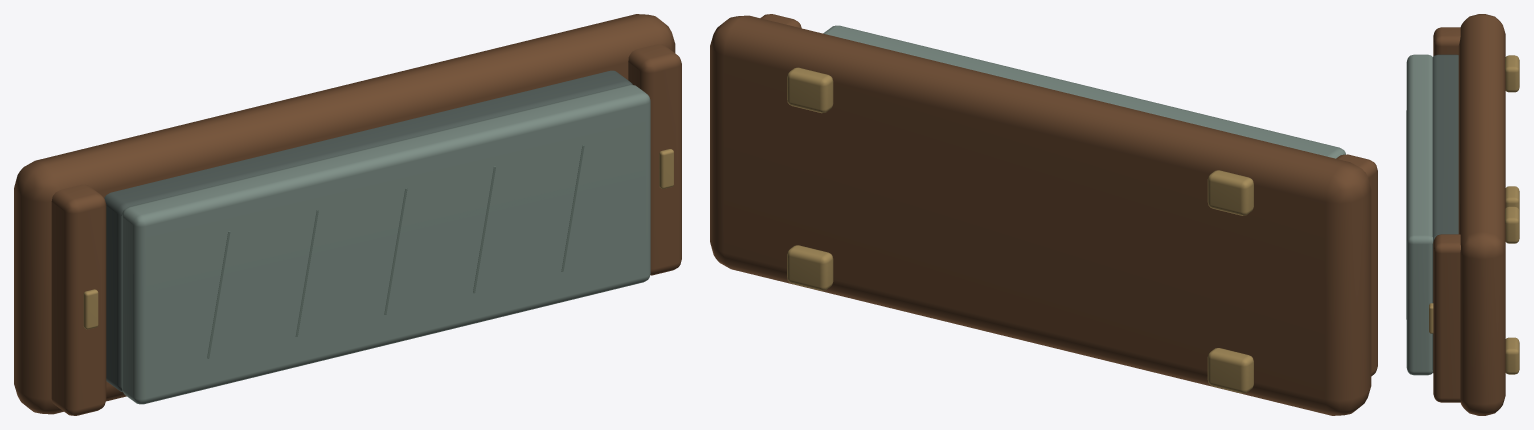
The model's file is honing_kit.glb.
3 renders of one model, left to right at view 1: azimuth 30°, elevation 25°; view 2: azimuth 150°, elevation 25°; view 3: azimuth 270°, elevation 25°, orthographic. The views are drawn at different scales.
Parts seen in each view (by area): view 1: Fine sage honing face, Walnut stone cradle, Charcoal coarse layer, Raised cradle end, Raised cradle end.001, Brass cradle pin; view 2: Walnut stone cradle, Fine sage honing face, Raised cradle end, Brass underside foot.002, Brass underside foot.001, Brass underside foot.003, Brass underside foot; view 3: Walnut stone cradle, Fine sage honing face, Charcoal coarse layer, Raised cradle end.001, Raised cradle end, Brass underside foot.003, Brass underside foot.001, Brass underside foot.002, Brass underside foot, Brass cradle pin.001.
Part boxes in pixels (x1=…): Fine sage honing face: x1=121, y1=84, x2=650, y2=404; Walnut stone cradle: x1=14, y1=14, x2=675, y2=414; Charcoal coarse layer: x1=104, y1=70, x2=632, y2=391; Raised cradle end: x1=51, y1=184, x2=106, y2=415; Raised cradle end.001: x1=628, y1=44, x2=681, y2=275; Brass cradle pin: x1=83, y1=289, x2=98, y2=329; Walnut stone cradle: x1=710, y1=15, x2=1371, y2=415; Fine sage honing face: x1=823, y1=25, x2=1345, y2=158; Raised cradle end: x1=1336, y1=154, x2=1377, y2=376; Brass underside foot.002: x1=787, y1=245, x2=833, y2=290; Brass underside foot.001: x1=1207, y1=170, x2=1253, y2=215; Brass underside foot.003: x1=787, y1=67, x2=833, y2=113; Brass underside foot: x1=1207, y1=348, x2=1253, y2=393; Walnut stone cradle: x1=1458, y1=14, x2=1505, y2=415; Fine sage honing face: x1=1406, y1=54, x2=1432, y2=375; Charcoal coarse layer: x1=1432, y1=54, x2=1458, y2=372; Raised cradle end.001: x1=1433, y1=234, x2=1460, y2=402; Raised cradle end: x1=1433, y1=27, x2=1460, y2=55; Brass underside foot.003: x1=1505, y1=206, x2=1519, y2=243; Brass underside foot.001: x1=1505, y1=55, x2=1519, y2=92; Brass underside foot.002: x1=1505, y1=337, x2=1519, y2=374; Brass underside foot: x1=1505, y1=186, x2=1519, y2=210; Brass cradle pin.001: x1=1429, y1=303, x2=1433, y2=333.
Size of the model in its own units: 1.76 by 0.64 by 0.36.
